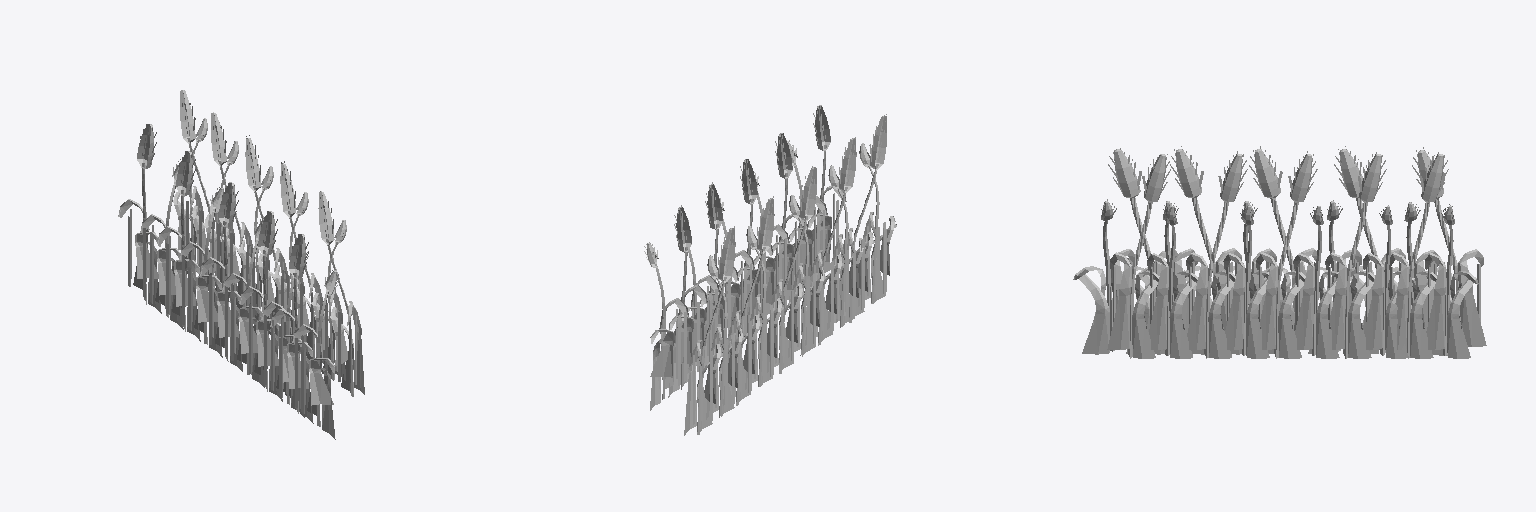
The model's file is wheatfield.obj.
3 renders of one model, left to right at view 1: azimuth 30°, elevation 25°; view 2: azimuth 150°, elevation 25°; view 3: azimuth 270°, elevation 25°, orthographic.
Visible parts, largest first — view 1: pCube684; view 2: pCube684; view 3: pCube684.
Part boxes in pixels (left/top/right/bottom): pCube684: left=118, top=90, right=364, bottom=439; pCube684: left=644, top=105, right=896, bottom=435; pCube684: left=1073, top=146, right=1486, bottom=358.
Size of the model in its own units: 1.29 by 3.61 by 6.23.